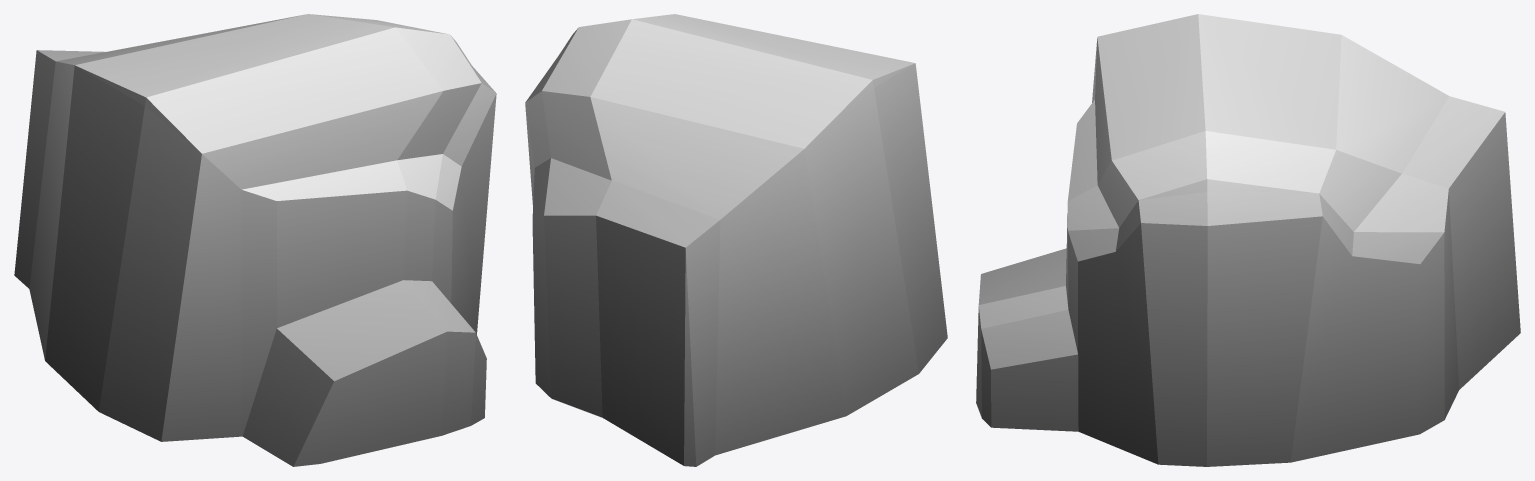
Rendered from Rock_13.fbx.
3 views of the same model, side by side, from view 1: azimuth 30°, elevation 25°; view 2: azimuth 150°, elevation 25°; view 3: azimuth 270°, elevation 25° (orthographic). The views are drawn at different scales.
Visible parts, largest first — view 1: Rock_6; view 2: Rock_6; view 3: Rock_6.
Part boxes in pixels (x1=…): Rock_6: x1=14, y1=14, x2=496, y2=466; Rock_6: x1=525, y1=14, x2=947, y2=466; Rock_6: x1=976, y1=14, x2=1520, y2=466.
Bounding box in the file's own units: 91.2 × 70.78 × 114.
